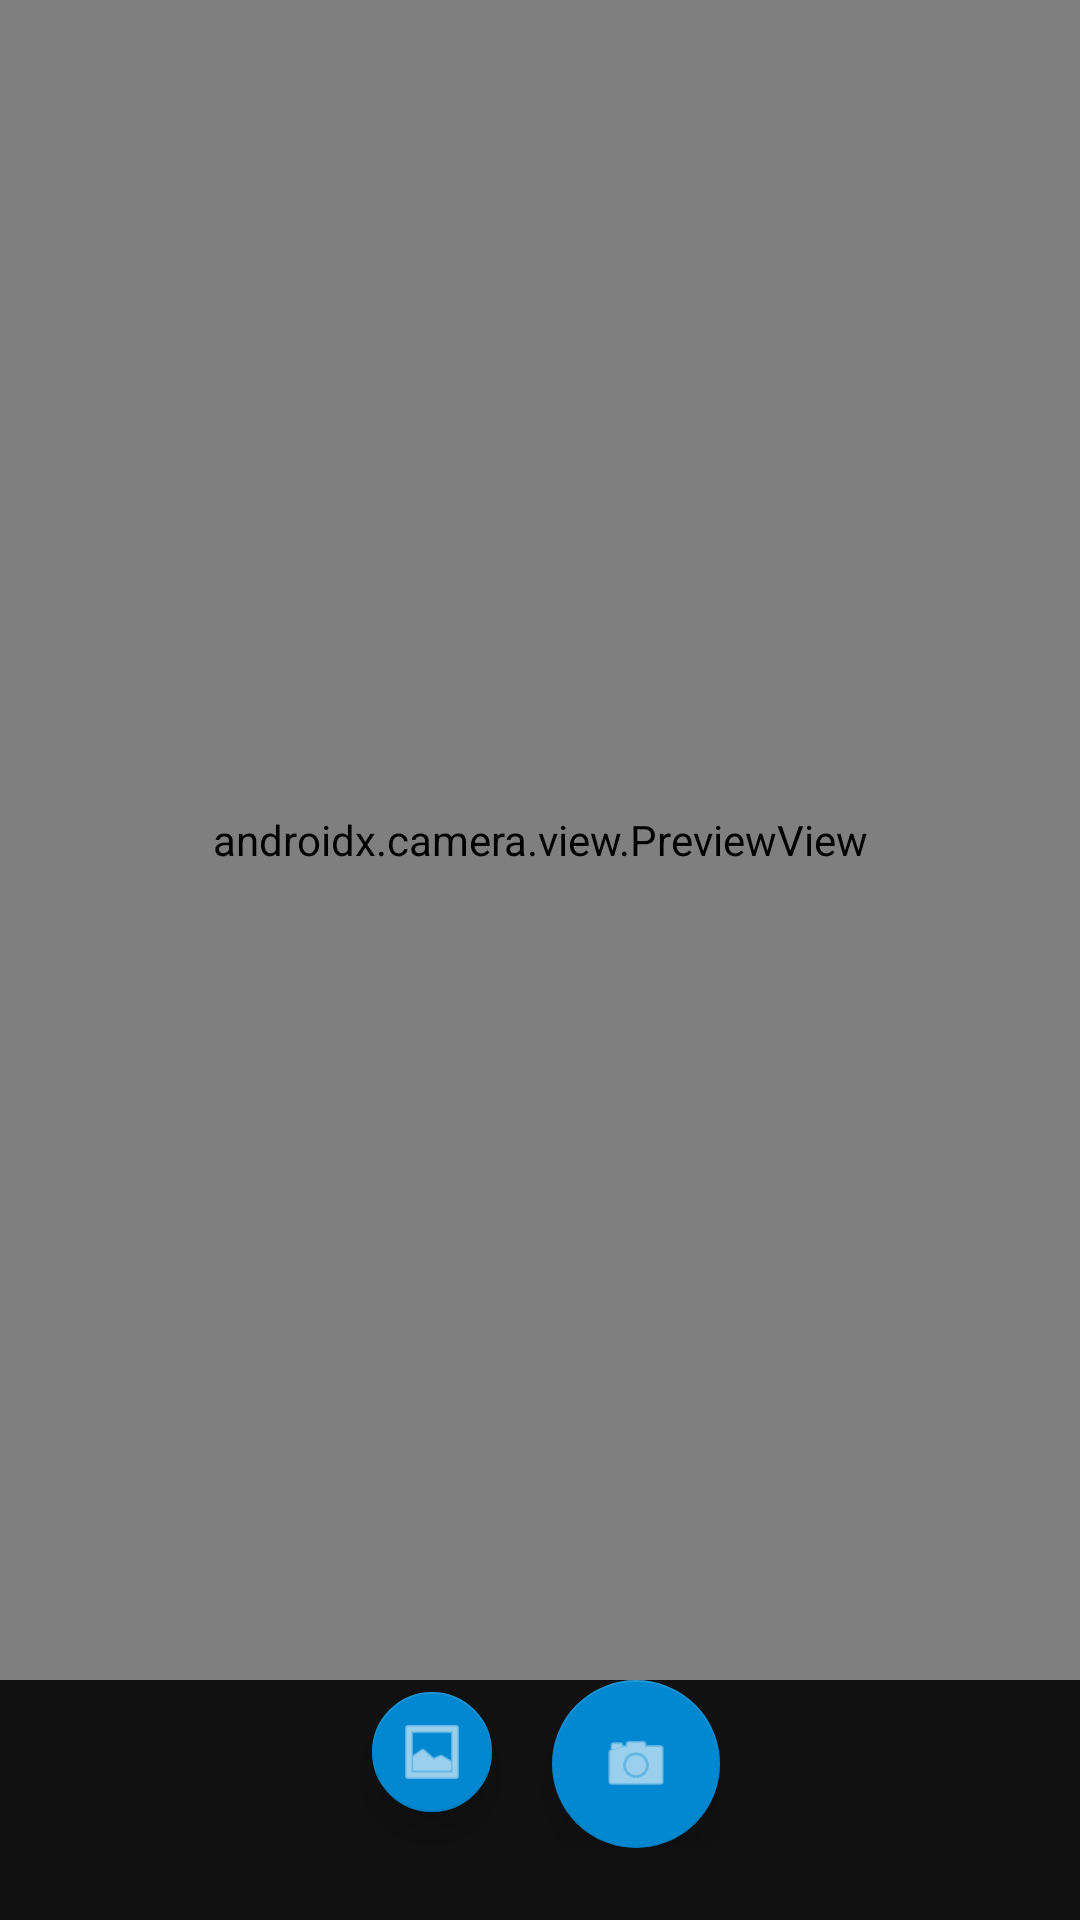

Named icons in this screenshot (1080w x 1920h) and their bounding boxes, (x1, y1, x2, y2):
从相册选择: (372, 1692, 492, 1812)
拍照: (552, 1680, 720, 1848)
